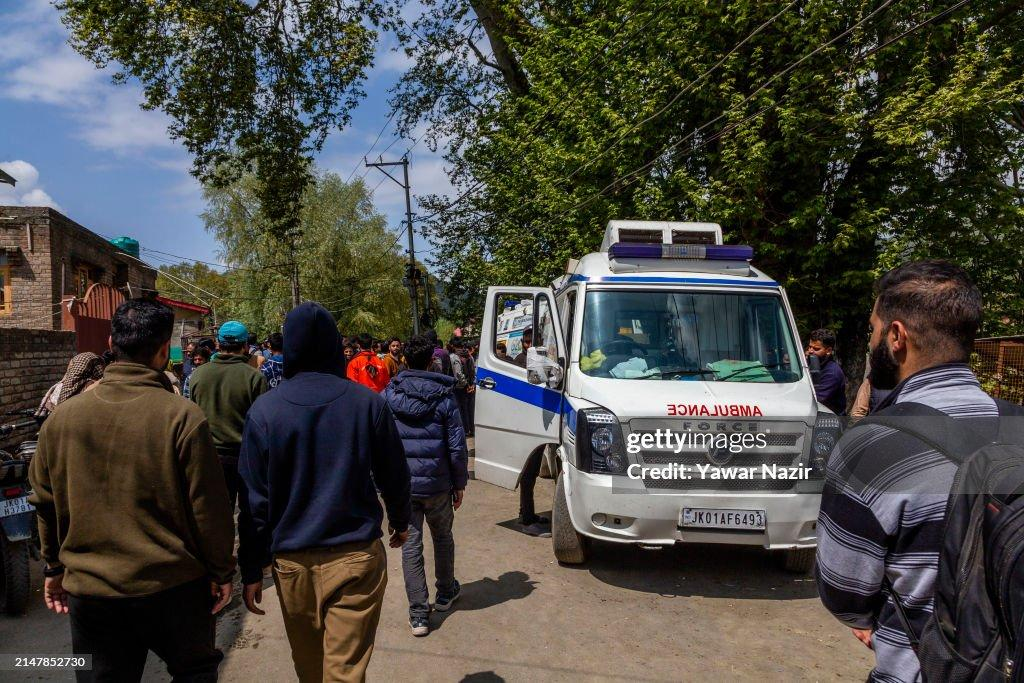ambulance: (559, 215, 821, 427)
